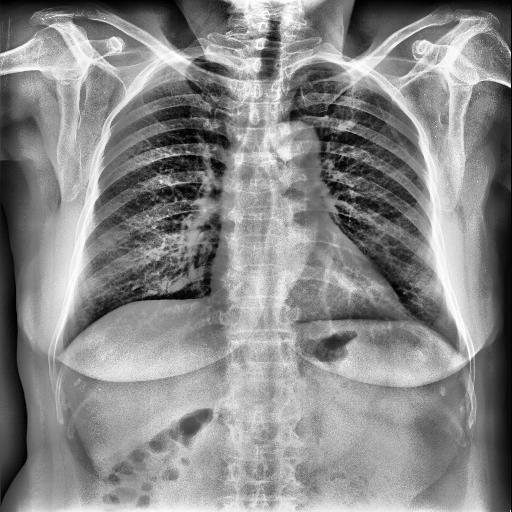0- Aortic enlargement: (268, 120, 322, 175), (266, 118, 321, 166), (267, 121, 320, 160)
